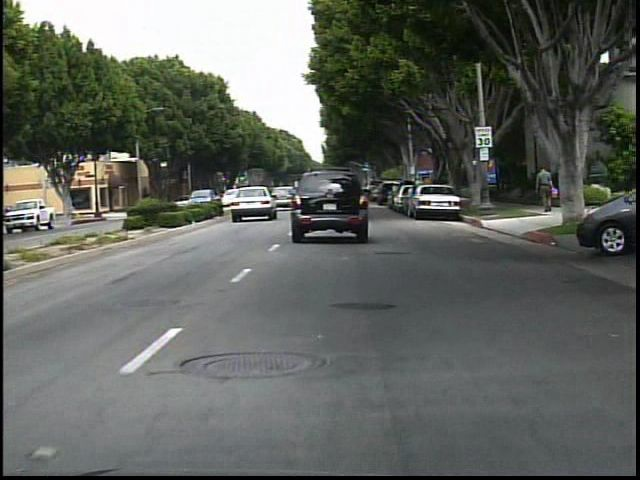person: (534, 165, 557, 217)
